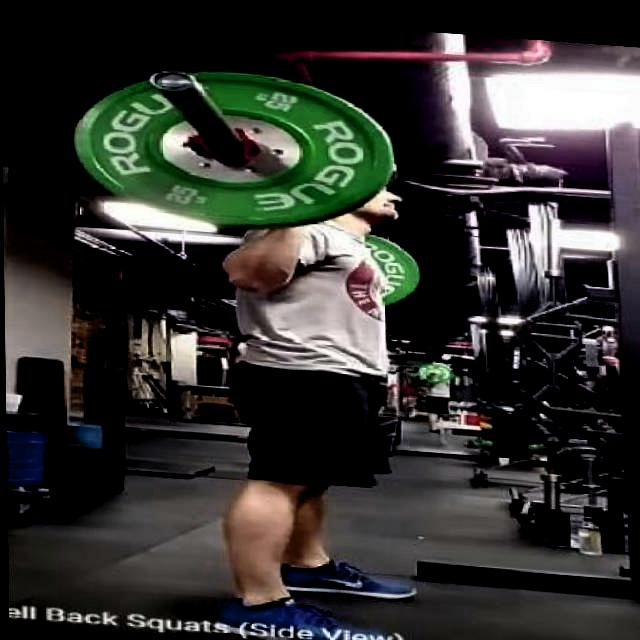barbell: (50, 45, 399, 237)
